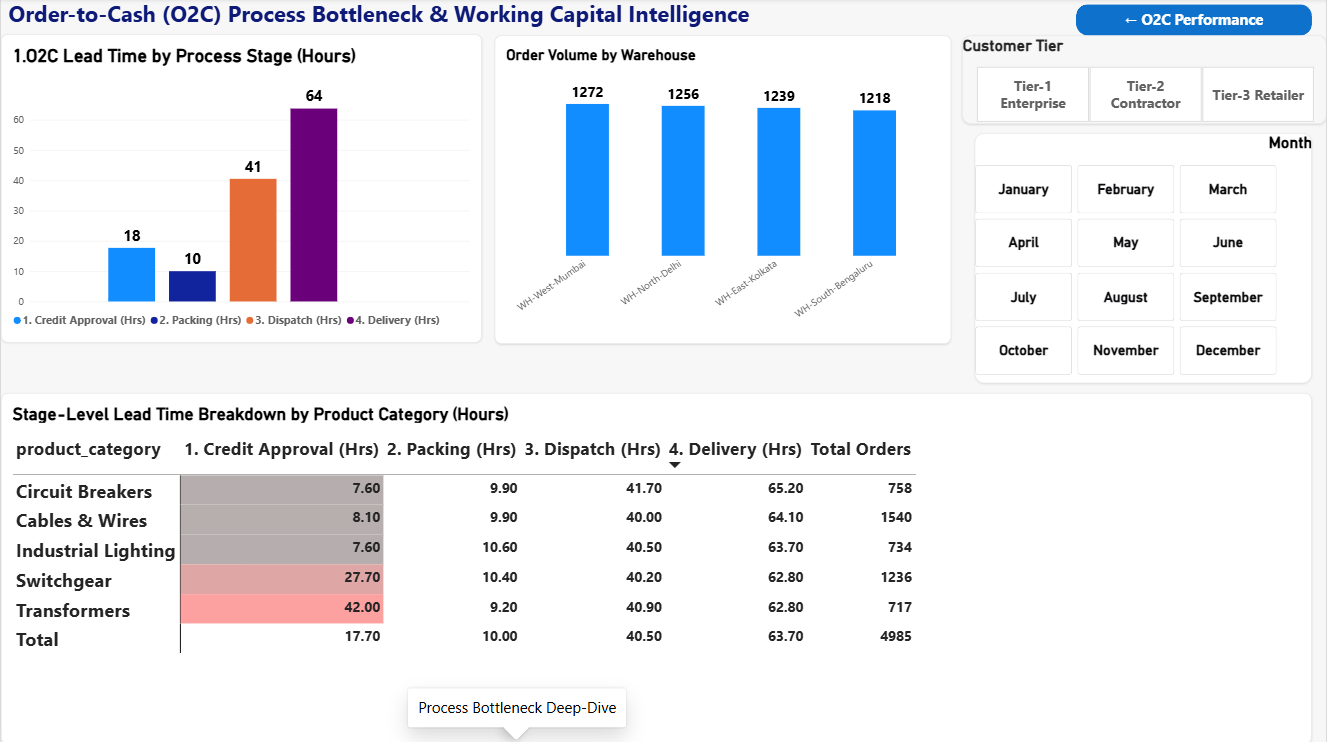

The page's visual inventory and layout, read from the dashboard file:
{"tool":"powerbi","page":{"name":"Process Bottleneck Deep-Dive","canvas":[1920,1080],"ordinal":1},"visuals":[{"type":"clusteredColumnChart","title":"1.O2C Lead Time by Process Stage (Hours)","fields":{"Y":["_measure.1. Credit Approval (Hrs)","_measure.2. Packing (Hrs)","_measure.3. Dispatch (Hrs)","_measure.4. Delivery (Hrs)"]},"box":[0,52.7,695.7,446.7],"z":1},{"type":"textbox","box":[10.3,0,1095,47.3],"z":2},{"type":"slicer","title":"Customer Tier","fields":{"Values":["cleaned_o2c_orders.customer_tier"]},"box":[1391.4,53.5,529,127.6],"z":3},{"type":"advancedSlicerVisual","fields":{"Values":["cleaned_o2c_orders.order_placed_ts.Variation.Date Hierarchy.Month"]},"box":[1410,195.5,487.8,362.3],"z":4},{"type":"clusteredColumnChart","title":"Order Volume by Warehouse","fields":{"Category":["cleaned_o2c_orders.warehouse_id"],"Y":["_measure.Total Orders"]},"box":[714.2,53.5,660.7,446.7],"z":5},{"type":"pivotTable","title":"Stage-Level Lead Time Breakdown by Product Category (Hours)","fields":{"Rows":["cleaned_o2c_orders.product_category"],"Values":["_measure.1. Credit Approval (Hrs)","_measure.2. Packing (Hrs)","_measure.3. Dispatch (Hrs)","_measure.4. Delivery (Hrs)","_measure.Total Orders"]},"box":[0,572.2,1897.8,508.4],"z":6},{"type":"actionButton","box":[1556.1,8.2,341.7,45.3],"z":7}]}

Visuals, with their boxes in screenshot pixels (x1, y1, x2, y2), scaled from the page's 1920x1080 canvas onto the 1327x742 screenshot:
"1.O2C Lead Time by Process Stage (Hours)" clusteredColumnChart: bbox=[0, 36, 481, 343]
textbox: bbox=[7, 0, 764, 32]
"Customer Tier" slicer: bbox=[962, 37, 1326, 124]
advancedSlicerVisual - cleaned_o2c_orders.order_placed_ts.Variation.Date Hierarchy.Month: bbox=[975, 134, 1312, 383]
"Order Volume by Warehouse" clusteredColumnChart: bbox=[494, 37, 950, 344]
"Stage-Level Lead Time Breakdown by Product Category (Hours)" pivotTable: bbox=[0, 393, 1312, 741]
actionButton: bbox=[1075, 6, 1312, 37]
